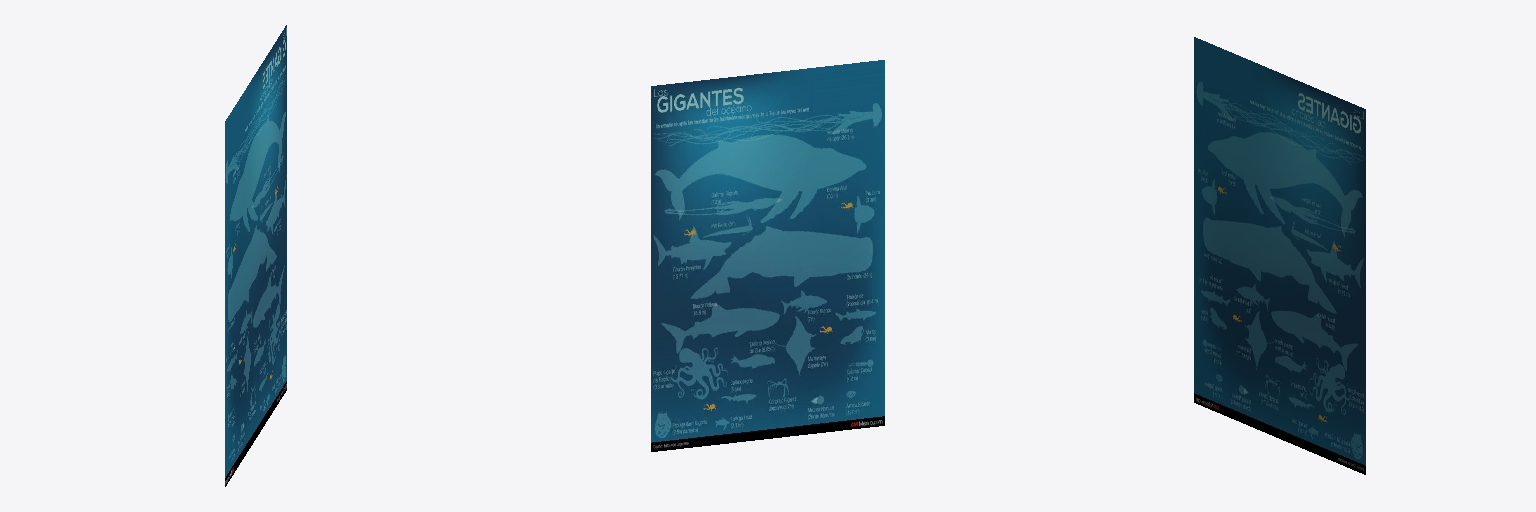
3 views of the same model, side by side, from view 1: azimuth 30°, elevation 25°; view 2: azimuth 150°, elevation 25°; view 3: azimuth 270°, elevation 25° (orthographic).
Parts seen in each view (by area): view 1: pPlane1; view 2: pPlane1; view 3: pPlane1.
Boxes of the visible parts, <box> form: pPlane1: <box>225,25,286,486</box>; pPlane1: <box>651,60,884,451</box>; pPlane1: <box>1194,37,1365,474</box>.
Size of the model in its own units: 2.12 by 5 by 2.12.
Materials: 1 (1 with a texture image).